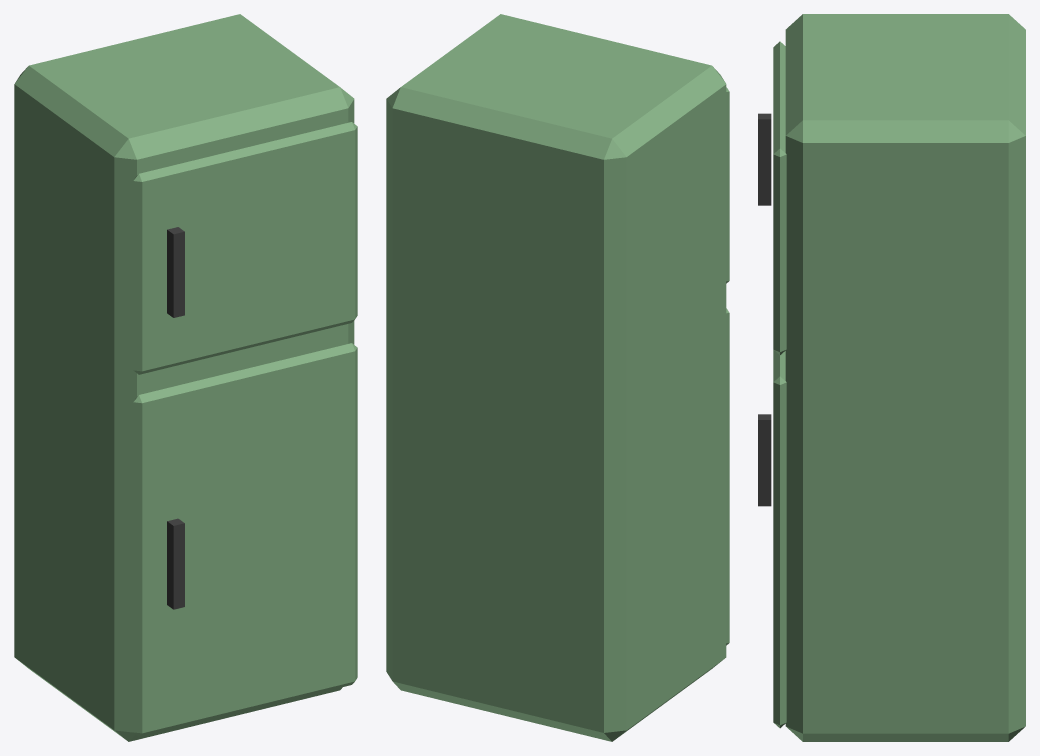
3 views of the same model, side by side, from view 1: azimuth 30°, elevation 25°; view 2: azimuth 150°, elevation 25°; view 3: azimuth 270°, elevation 25° (orthographic). The views are drawn at different scales.
Visible parts, largest first — view 1: Cabinet, Door, Door.001, Handle, Handle.001; view 2: Cabinet, Door, Door.001; view 3: Cabinet, Door, Door.001, Handle, Handle.001.
Boxes of the visible parts, box(x1,y1,x2,y2) form: Cabinet: box(14, 14, 354, 741); Door: box(133, 343, 357, 736); Door.001: box(133, 122, 357, 374); Handle: box(167, 518, 184, 609); Handle.001: box(167, 227, 184, 317); Cabinet: box(386, 14, 726, 741); Door: box(726, 308, 729, 645); Door.001: box(726, 87, 729, 283); Cabinet: box(785, 14, 1025, 741); Door: box(773, 350, 786, 728); Door.001: box(773, 41, 786, 354); Handle: box(758, 414, 771, 506); Handle.001: box(758, 113, 771, 205).
Bounding box in the file's own units: 0.75 × 1.8 × 0.7025.
Materials: 1 (1 with a texture image).
